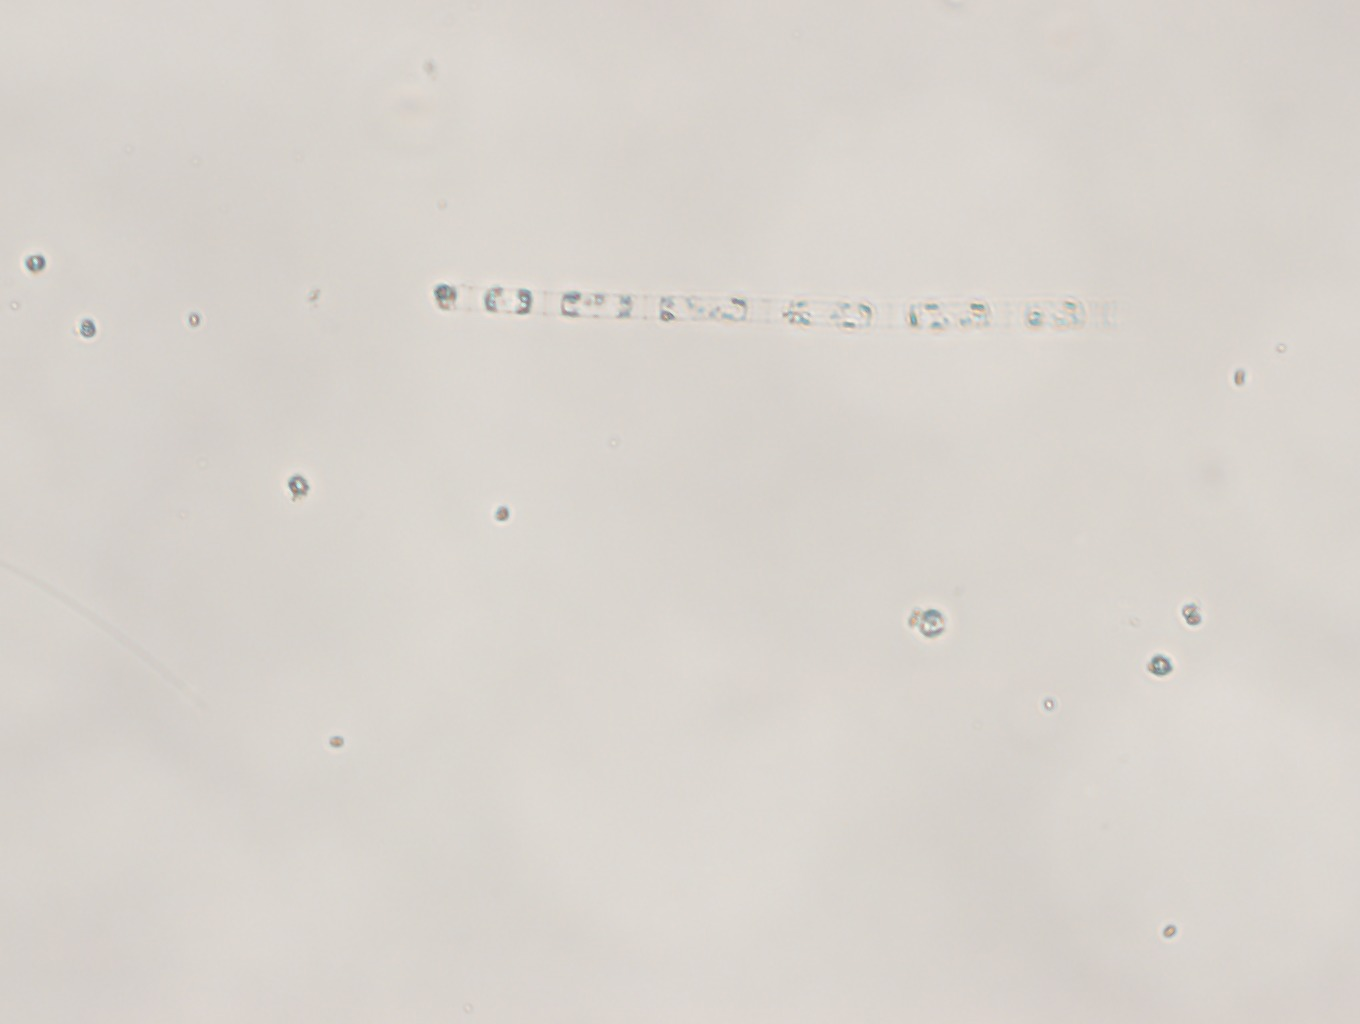skeletonema: (413, 270, 1130, 365)
